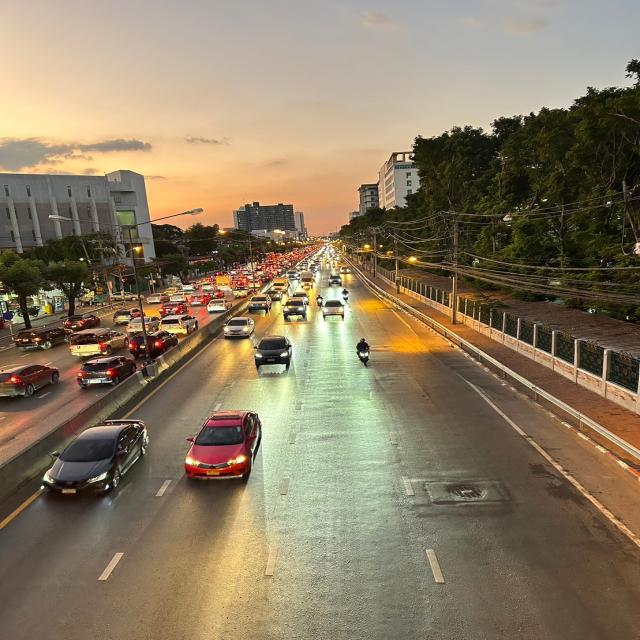bike: (352, 336, 375, 375)
car: (36, 414, 151, 506), (179, 409, 264, 480)
